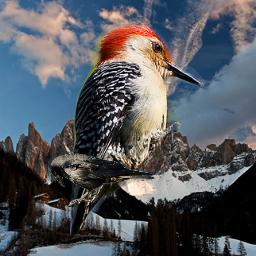Crow: (50, 153, 156, 206)
Woodpecker: (70, 24, 208, 238)
